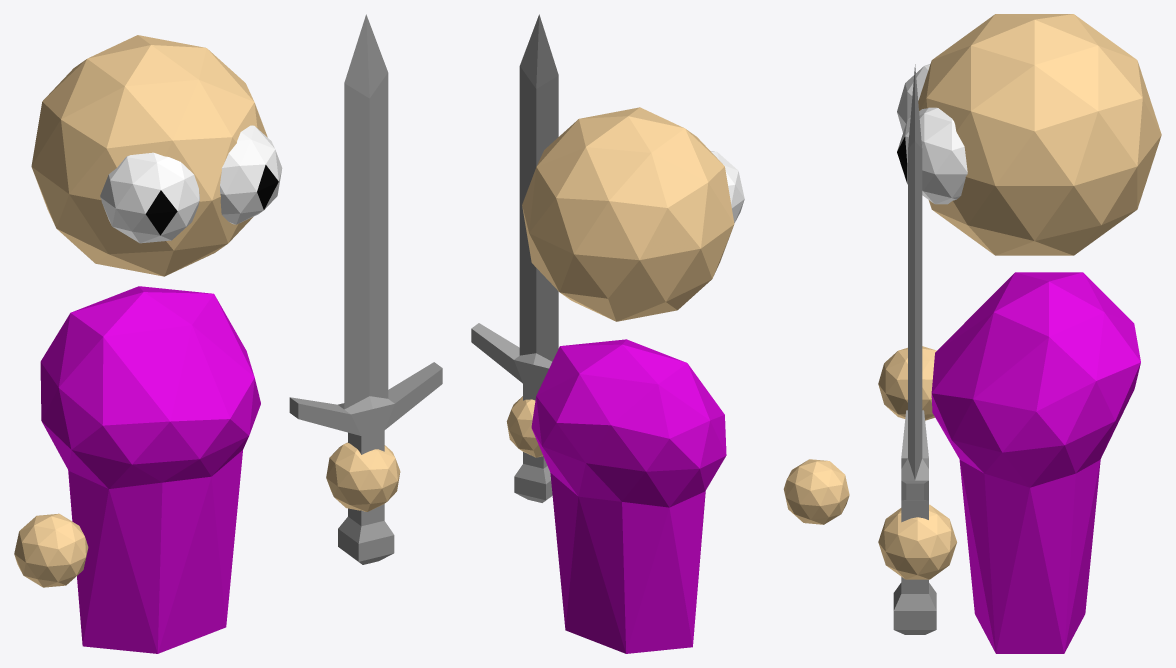
File: Char_F.fbx
3 views of the same model, side by side, from view 1: azimuth 30°, elevation 25°; view 2: azimuth 150°, elevation 25°; view 3: azimuth 270°, elevation 25° (orthographic). The views are drawn at different scales.
Visible parts, largest first — view 1: Body_F, Head, SWOOOOOORD, Eyes, Hands; view 2: Body_F, Head, SWOOOOOORD, Hands, Eyes; view 3: Body_F, Head, SWOOOOOORD, Hands, Eyes.
Part boxes in pixels (box(x1,y1,x2,y2)): Body_F: box(40, 286, 260, 653); Head: box(31, 35, 267, 276); SWOOOOOORD: box(289, 14, 442, 564); Eyes: box(100, 125, 282, 243); Hands: box(14, 442, 400, 587); Body_F: box(531, 339, 726, 653); Head: box(522, 107, 734, 321); SWOOOOOORD: box(471, 14, 558, 502); Hands: box(506, 396, 849, 524); Eyes: box(711, 151, 744, 223); Body_F: box(931, 272, 1140, 653); Head: box(918, 14, 1161, 255); SWOOOOOORD: box(893, 64, 936, 634); Hands: box(878, 346, 956, 579); Eyes: box(897, 64, 967, 204).
Size of the model in its own units: 216 by 314 by 122.
